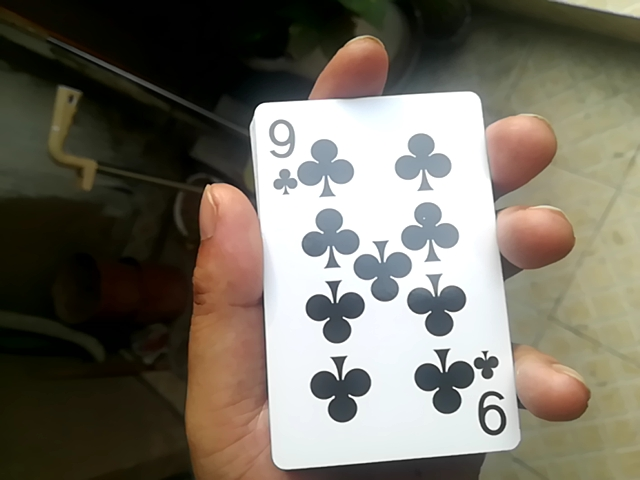mh 9: (256, 93, 518, 474)
